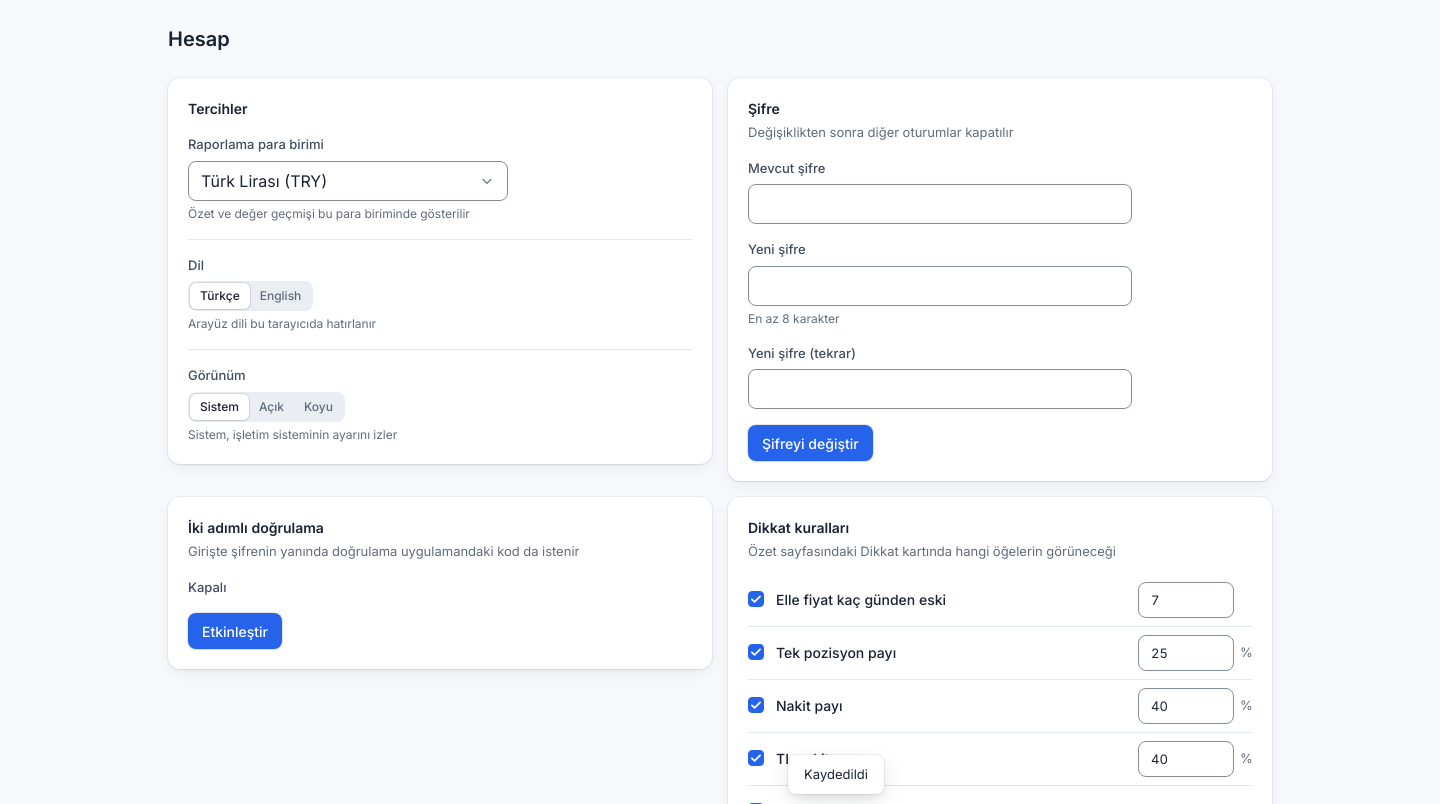
Test case: AccountPage › refreshes the portfolio list after a currency change
The image size is (1440, 804).
Click the dropdown named "Raporlama para birimi". click: click(264, 180)
box: [188,160,508,200]
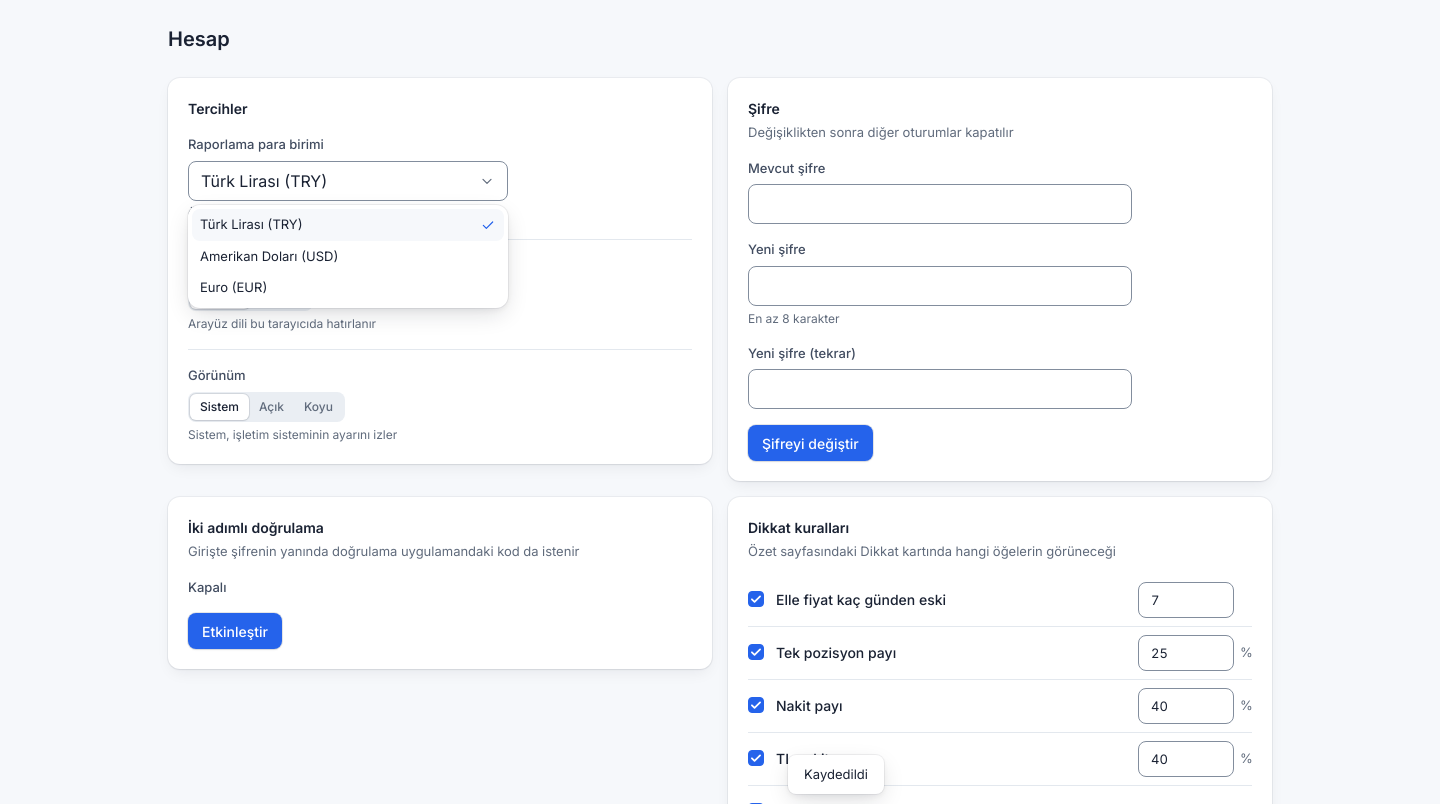
Expected: the list is shown, [192,209,504,304]
Click the option "Amerikan Doları (USD)". click: click(269, 256)
box: [200,248,339,264]
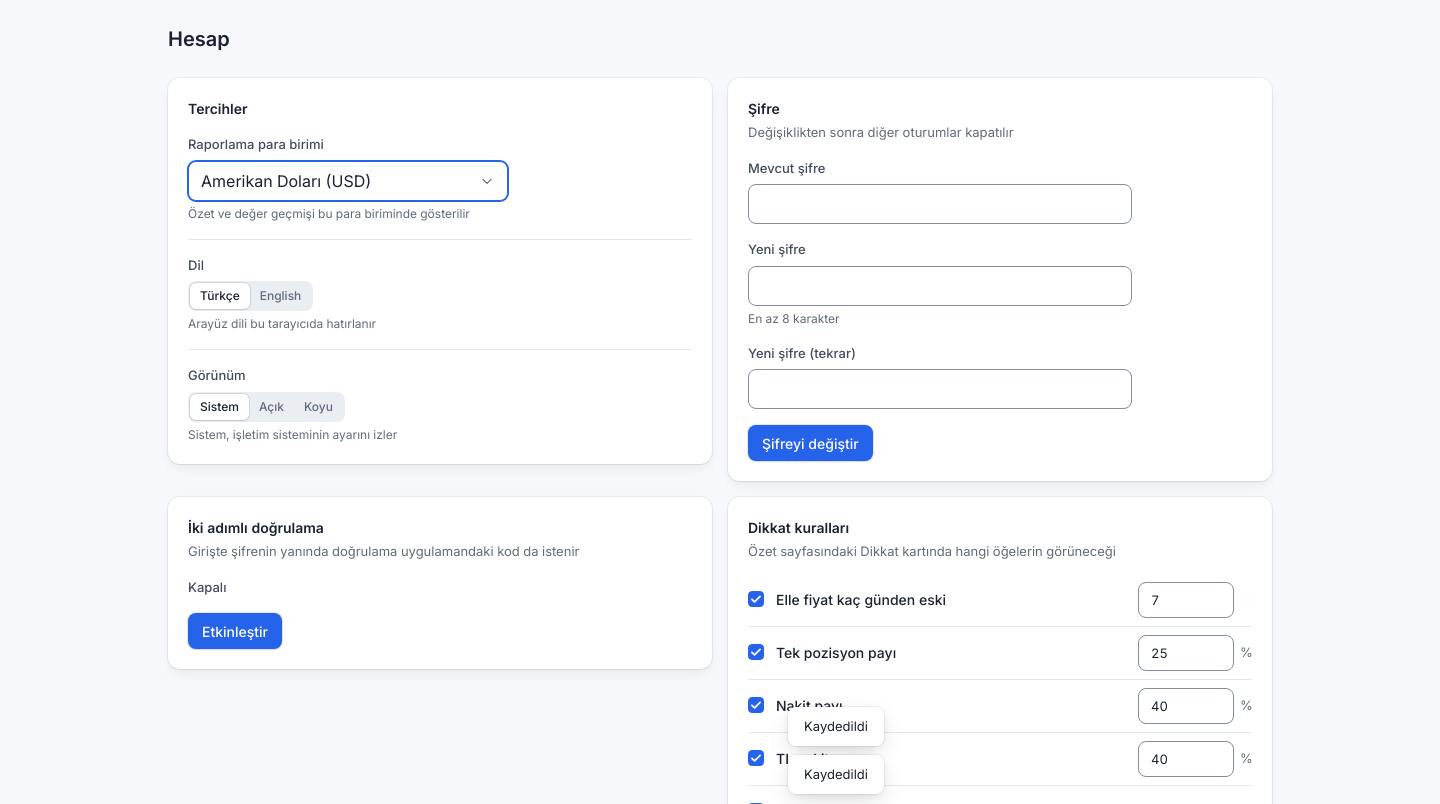
Expected: the list "Türk Lirası (TRY) Amerikan Doları (USD) Euro (EUR)" is gone
